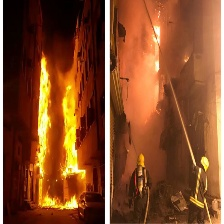fire: (35, 55, 87, 210), (151, 14, 161, 94)
